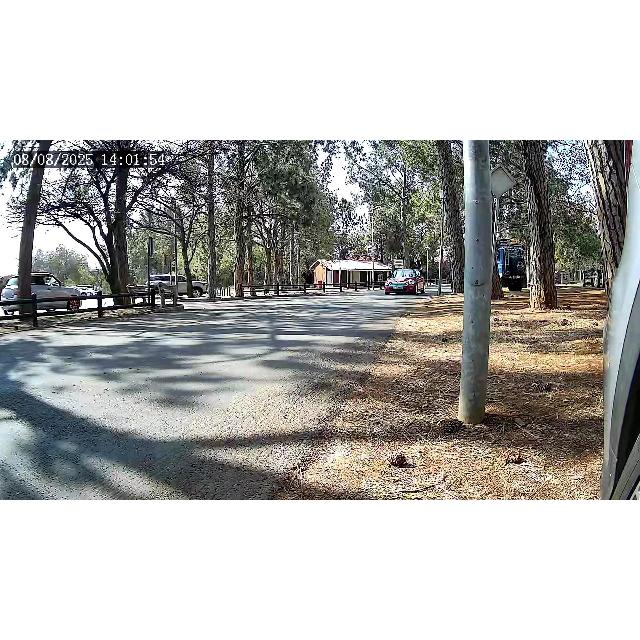car: (0, 270, 84, 316), (384, 268, 426, 296)
